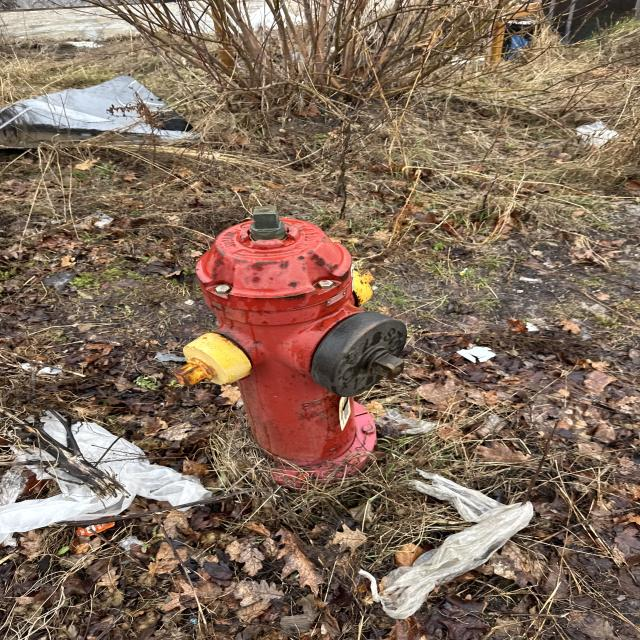Fire hydrant: (172, 205, 408, 488)
